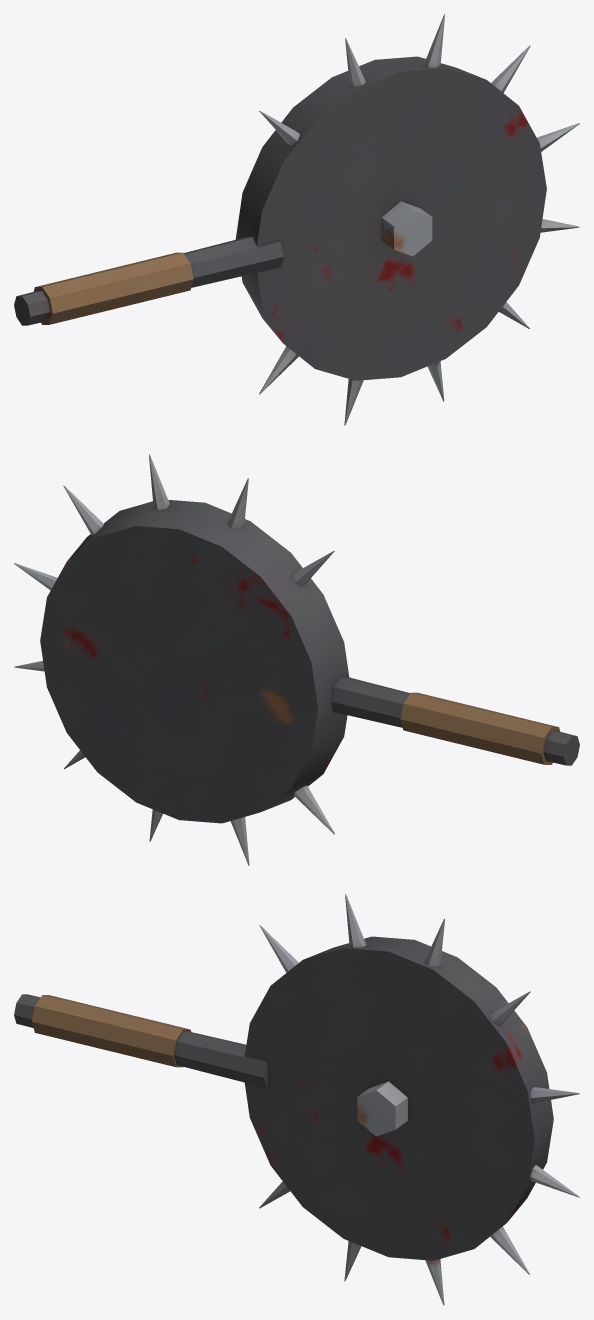
Rendered from AC_SartenInfierno.fbx.
The picture shows the model from 3 angles, top to bottom: view 1: azimuth 30°, elevation 25°; view 2: azimuth 150°, elevation 25°; view 3: azimuth 330°, elevation 25°; orthographic projection.
Parts seen in each view (by area): view 1: AC_SartenInfierno; view 2: AC_SartenInfierno; view 3: AC_SartenInfierno.
Part boxes in pixels (x1,y1,x2,y2): AC_SartenInfierno: (14, 14, 579, 425); AC_SartenInfierno: (14, 454, 579, 865); AC_SartenInfierno: (14, 894, 579, 1305).
Size of the model in its own units: 0.5537 by 0.3674 by 0.0661.
1 material, 1 textured.
